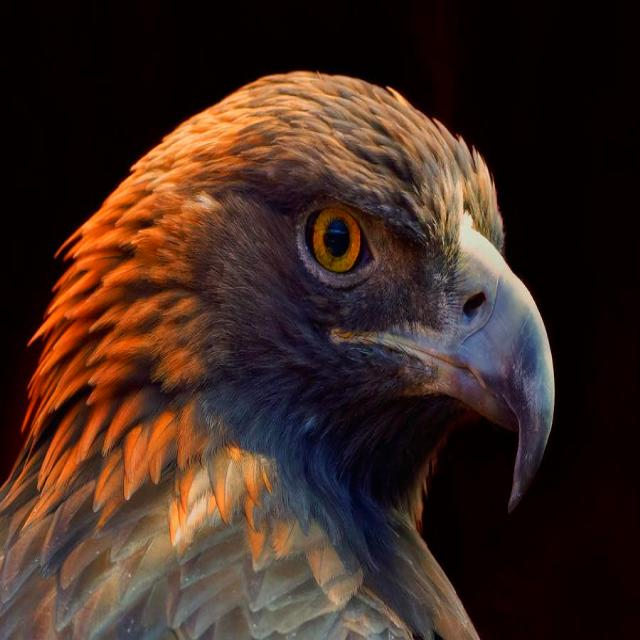eagle: (0, 73, 554, 639)
